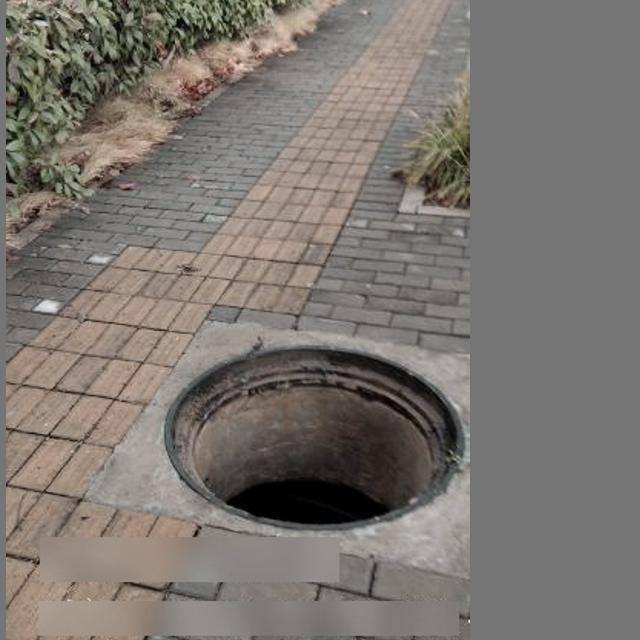lose: (165, 341, 470, 532)
